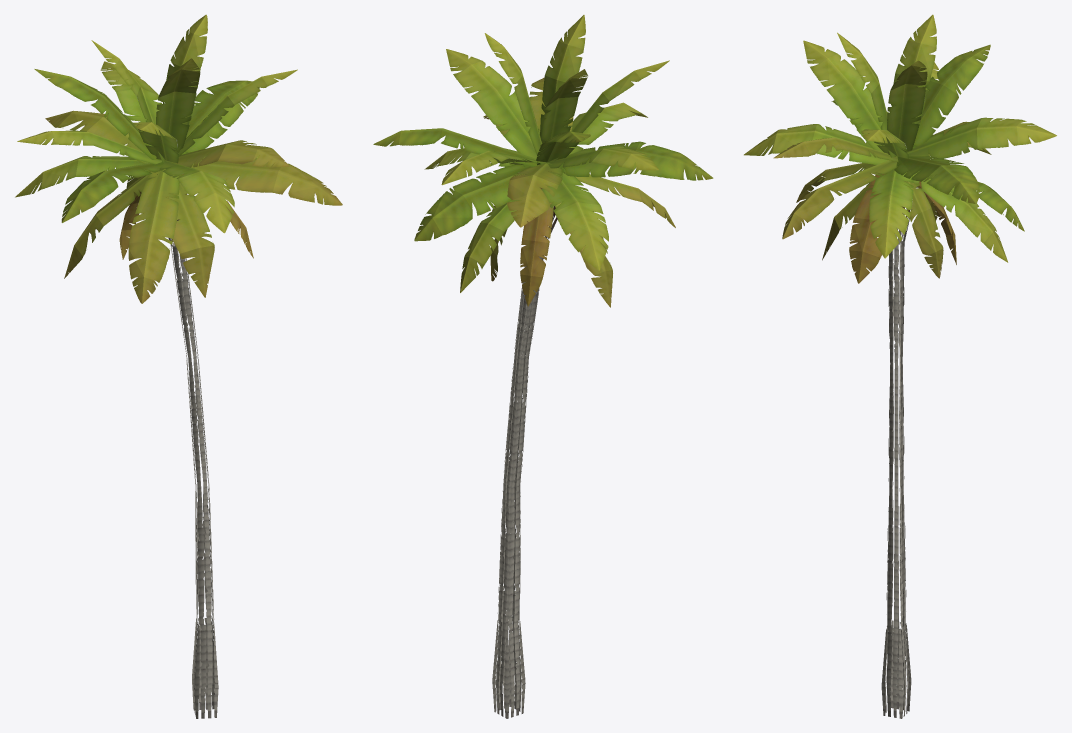
File: syj_zxshu01.FBX
3 renders of one model, left to right at view 1: azimuth 30°, elevation 25°; view 2: azimuth 150°, elevation 25°; view 3: azimuth 270°, elevation 25°, orthographic. The views are drawn at different scales.
Parts seen in each view (by area): view 1: syj_zxshu01; view 2: syj_zxshu01; view 3: syj_zxshu01.
Boxes of the visible parts, x1,y1,x2,y2 form: syj_zxshu01: (15, 14, 342, 718); syj_zxshu01: (373, 15, 713, 718); syj_zxshu01: (744, 14, 1056, 718).
Size of the model in its own units: 800 by 1948 by 842.
